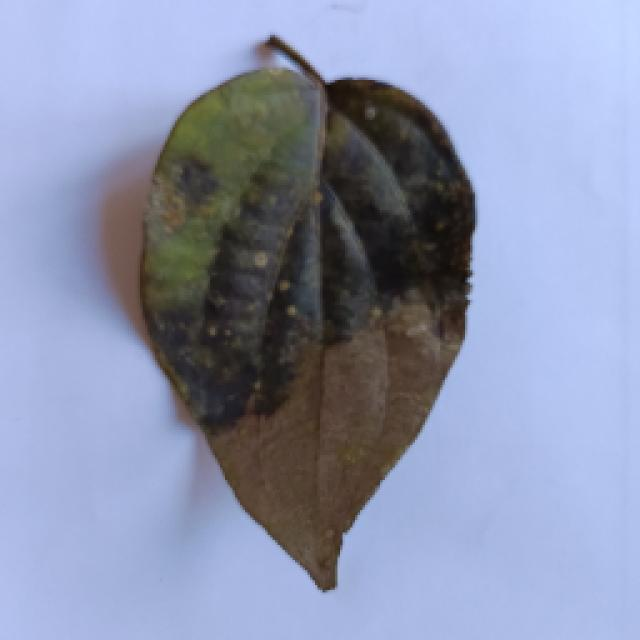footrot: (97, 42, 515, 592)
